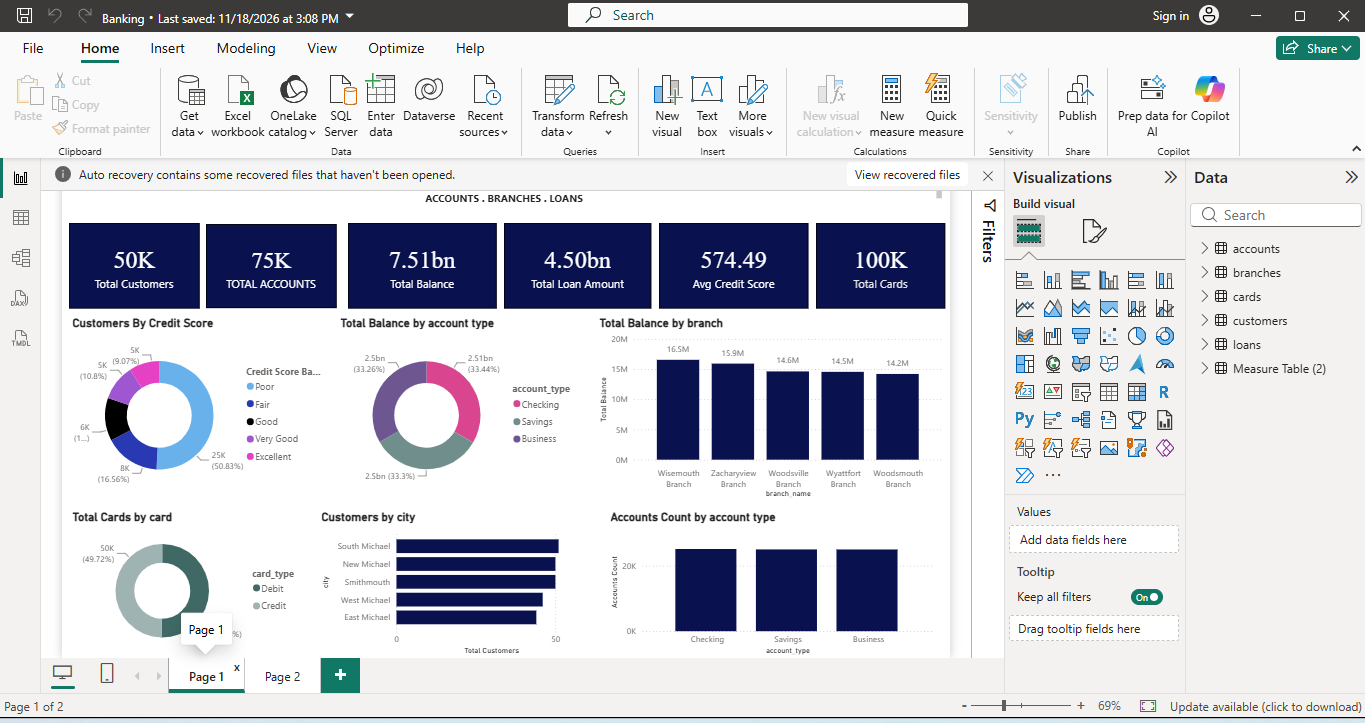

This screenshot's page, from the dashboard's own definition file:
{"tool":"powerbi","page":{"name":"Page 1","canvas":[1280,720],"ordinal":0},"visuals":[{"type":"card","fields":{"Values":["Measure Table (2).Total Customers"]},"box":[10.1,93.8,187.6,122.6],"z":0},{"type":"card","fields":{"Values":["Measure Table (2).TOTAL ACCOUNTS"]},"box":[207.8,95.2,187.6,121.2],"z":1000},{"type":"card","fields":{"Values":["Measure Table (2).Total Balance"]},"box":[411.2,93.8,213.5,122.6],"z":2000},{"type":"card","fields":{"Values":["Measure Table (2).Total Loan Amount"]},"box":[636.3,93.8,212.1,122.6],"z":3000},{"type":"card","fields":{"Values":["Measure Table (2).Total Cards"]},"box":[1086.4,93.8,186.1,122.6],"z":4000},{"type":"card","fields":{"Values":["Measure Table (2).Avg Credit Score"]},"box":[859.9,93.8,215,122.6],"z":5000},{"type":"donutChart","title":"Customers By Credit Score","fields":{"Category":["customers.Credit Score Band"],"Y":["Measure Table (2).Total Customers"]},"box":[10.1,228,375.1,266.9],"z":6000},{"type":"donutChart","title":"Total Balance by account type","fields":{"Category":["accounts.account_type"],"Y":["Measure Table (2).Total Balance"]},"box":[395.3,228,357.8,266.9],"z":7000},{"type":"clusteredColumnChart","title":"Total Balance by branch","fields":{"Category":["branches.branch_name"],"Y":["Measure Table (2).Total Balance"]},"box":[769,228,503.5,266.9],"z":8000},{"type":"donutChart","title":"Total Cards by card","fields":{"Category":["cards.card_type"],"Y":["Measure Table (2).Total Cards"]},"box":[10.1,506.4,347.7,213.5],"z":9000},{"type":"clusteredBarChart","title":" Customers by city","fields":{"Category":["customers.city"],"Y":["Measure Table (2).Total Customers"]},"box":[369.3,506.4,399.6,213.5],"z":10000},{"type":"clusteredColumnChart","title":"Accounts Count by account type","fields":{"Category":["accounts.account_type"],"Y":["Measure Table (2).Accounts Count"]},"box":[784.9,506.4,474.7,213.5],"z":11000},{"type":"textbox","box":[10.1,0,1262.4,82.2],"z":12000}]}

Visuals, with their boxes on the page's 1280x720 design canvas (x1, y1, x2, y2). These are canvas units, not pixel positions in the 1365x723 screenshot, which may show the page scaled, cropped or inside an application window:
card - Measure Table (2).Total Customers: (x1=10, y1=94, x2=198, y2=216)
card - Measure Table (2).TOTAL ACCOUNTS: (x1=208, y1=95, x2=395, y2=216)
card - Measure Table (2).Total Balance: (x1=411, y1=94, x2=625, y2=216)
card - Measure Table (2).Total Loan Amount: (x1=636, y1=94, x2=848, y2=216)
card - Measure Table (2).Total Cards: (x1=1086, y1=94, x2=1272, y2=216)
card - Measure Table (2).Avg Credit Score: (x1=860, y1=94, x2=1075, y2=216)
"Customers By Credit Score" donutChart: (x1=10, y1=228, x2=385, y2=495)
"Total Balance by account type" donutChart: (x1=395, y1=228, x2=753, y2=495)
"Total Balance by branch" clusteredColumnChart: (x1=769, y1=228, x2=1272, y2=495)
"Total Cards by card" donutChart: (x1=10, y1=506, x2=358, y2=720)
" Customers by city" clusteredBarChart: (x1=369, y1=506, x2=769, y2=720)
"Accounts Count by account type" clusteredColumnChart: (x1=785, y1=506, x2=1260, y2=720)
textbox: (x1=10, y1=0, x2=1272, y2=82)
